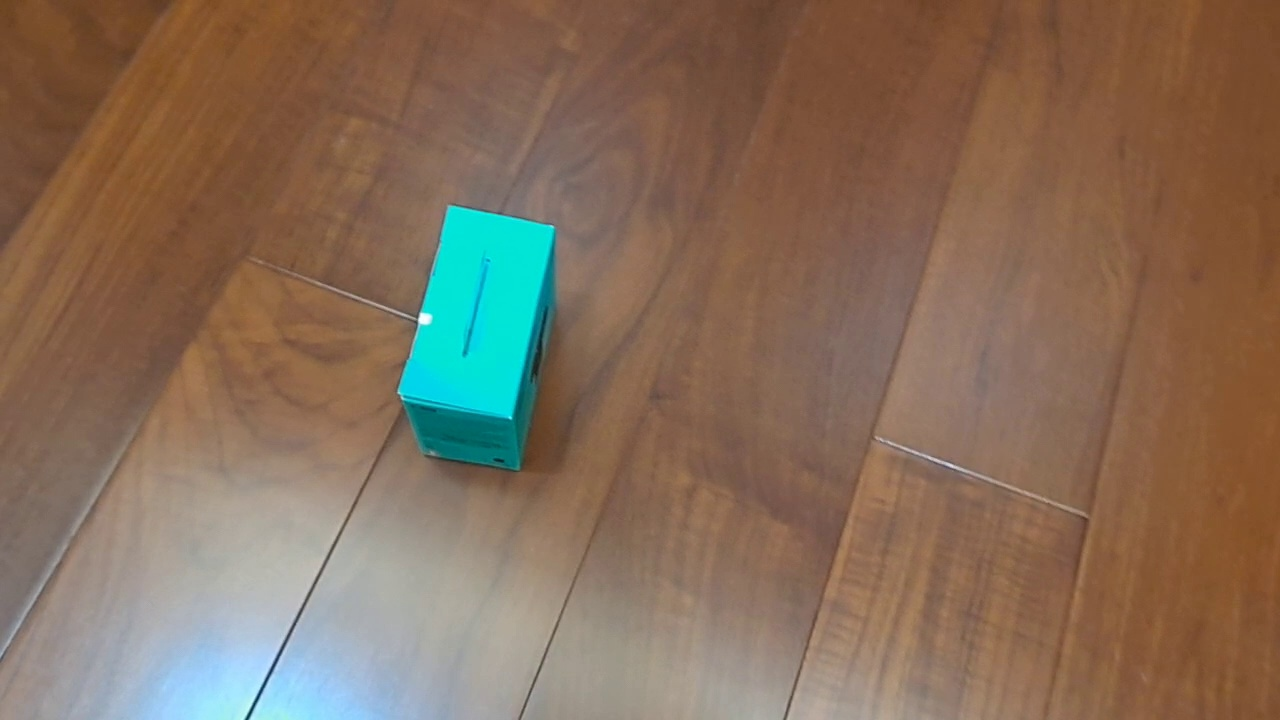webcam: (396, 203, 557, 472)
